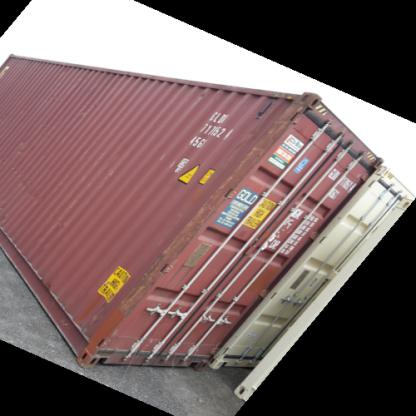Damage: (205, 95, 314, 214), (118, 217, 215, 312)
